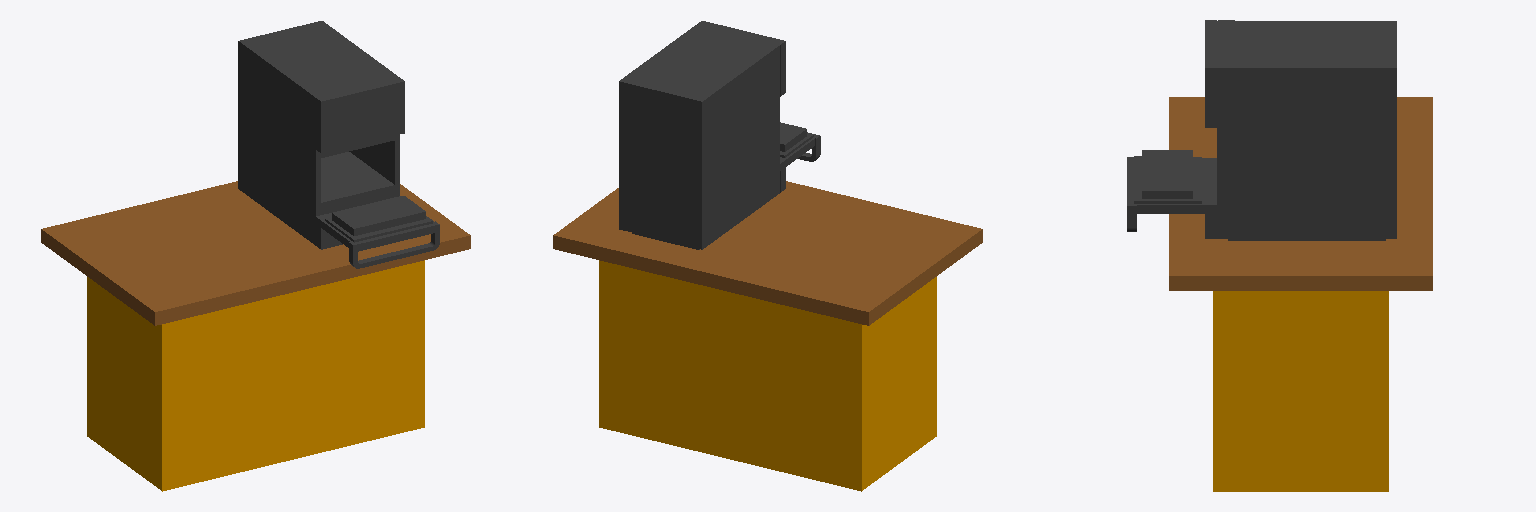
URDF robot description (table_zone_2):
<?xml version="1.0" ?>
<robot name="table_zone_2">
  <link name="table_2">
    <inertial>
      <origin xyz="0 0 0" rpy="0 0 0"/>
      <mass value="45.0"/>
      <inertia ixx="1.0" ixy="0" ixz="0" iyy="1.0" iyz="0" izz="1.0"/>
    </inertial>
    <visual>
      <origin xyz="0 0 0.7" rpy="0 0 0"/>
      <geometry><box size="1.2 0.75 0.05"/></geometry>
      <material name="wood"><color rgba="0.6 0.4 0.2 1"/></material>
    </visual>
    <collision>
      <origin xyz="0 0 0.7" rpy="0 0 0"/>
      <geometry><box size="1.2 0.75 0.05"/></geometry>
    </collision>
    <visual> <origin xyz="0 0 0.35" rpy="0 0 0"/>
      <geometry><box size="1.0 0.5 0.7"/></geometry>
    </visual>
    <collision>
      <origin xyz="0 0 0.7" rpy="0 0 0"/>
      <geometry><box size="1.0 0.5 0.7"/></geometry>
    </collision>
  </link>

   <link name="oven">
    <inertial>
      <origin xyz="0 0 0" rpy="0 0 0"/>
      <mass value="5.0"/> <inertia ixx="0.1" ixy="0" ixz="0" iyy="0.1" iyz="0" izz="0.1"/>
    </inertial>
    
    <visual>
        <origin xyz="0 0 0" rpy="0 0 0" />
        <geometry>
            <mesh filename="oven_open.stl" scale="0.0009 0.0009 0.0009"/>
        </geometry>
        <material name="gray">
            <color rgba="0.3 0.3 0.3 1.0" />
        </material>
    </visual>

    <collision>
      <origin xyz="0 0 0" rpy="0 0 0" />
      <geometry>
        <mesh filename="oven_open.stl" scale="0.0009 0.0009 0.0009"/>
      </geometry>
    </collision>
  </link>

  <link name="grill">
    <inertial>
      <origin xyz="0 0 0" rpy="0 0 0"/>
      <mass value="5.0"/> <inertia ixx="0.1" ixy="0" ixz="0" iyy="0.1" iyz="0" izz="0.1"/>
    </inertial>
    
    <visual>
        <origin xyz="0 0 0" rpy="0 0 0" />
        <geometry>
            <mesh filename="grill_open.stl" scale="0.0009 0.0009 0.0009"/>
        </geometry>
        <material name="gray">
            <color rgba="0.3 0.3 0.3 1.0" />
        </material>
    </visual>

    <collision>
      <origin xyz="0 0 0" rpy="0 0 0" />
      <geometry>
        <mesh filename="grill_open.stl" scale="0.0009 0.0009 0.0009"/>
      </geometry>
    </collision>
  </link>

  <joint name="j_oven" type="fixed">
    <parent link="table_2"/><child link="oven"/>
    <origin xyz="0.25 0 0.75" rpy="0 0 3.14"/>
  </joint>

  <joint name="j_grill" type="fixed">
    <parent link="table_2"/><child link="grill"/>
    <origin xyz="-0.25 -0.2 0.75" rpy="0 0 0"/>
  </joint>
</robot>

--- What the picture shows (computed from the rendered views, not written in the file) ---
Views: 3 orthographic renders of the robot side by side, from view 1: azimuth 30°, elevation 25°; view 2: azimuth 150°, elevation 25°; view 3: azimuth 270°, elevation 25°.
Robot: table_zone_2 — 3 links, 2 joints (2 fixed); root link table_2; default pose: all joints at 0.
Links seen in each view (by area): view 1: table_2, oven; view 2: table_2, oven; view 3: table_2, oven.
Link boxes in pixels (<box>): table_2: <box>41,181,470,491</box>; oven: <box>238,21,439,268</box>; table_2: <box>553,181,982,491</box>; oven: <box>619,21,820,249</box>; table_2: <box>1169,97,1432,491</box>; oven: <box>1127,20,1396,240</box>.
Size in the robot's own frame: 1.2 by 0.8694 by 1.29 metres.
1 mesh visuals loaded from 2 distinct referenced files (1 binary STL); not drawn: 1 (reference not matched to a file when rendering).
